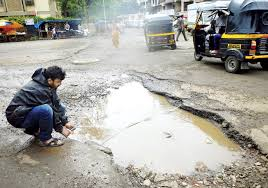pothole: (95, 56, 263, 186)
